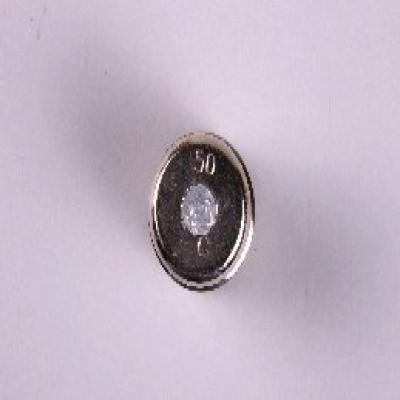technique: (148, 133, 256, 293)
